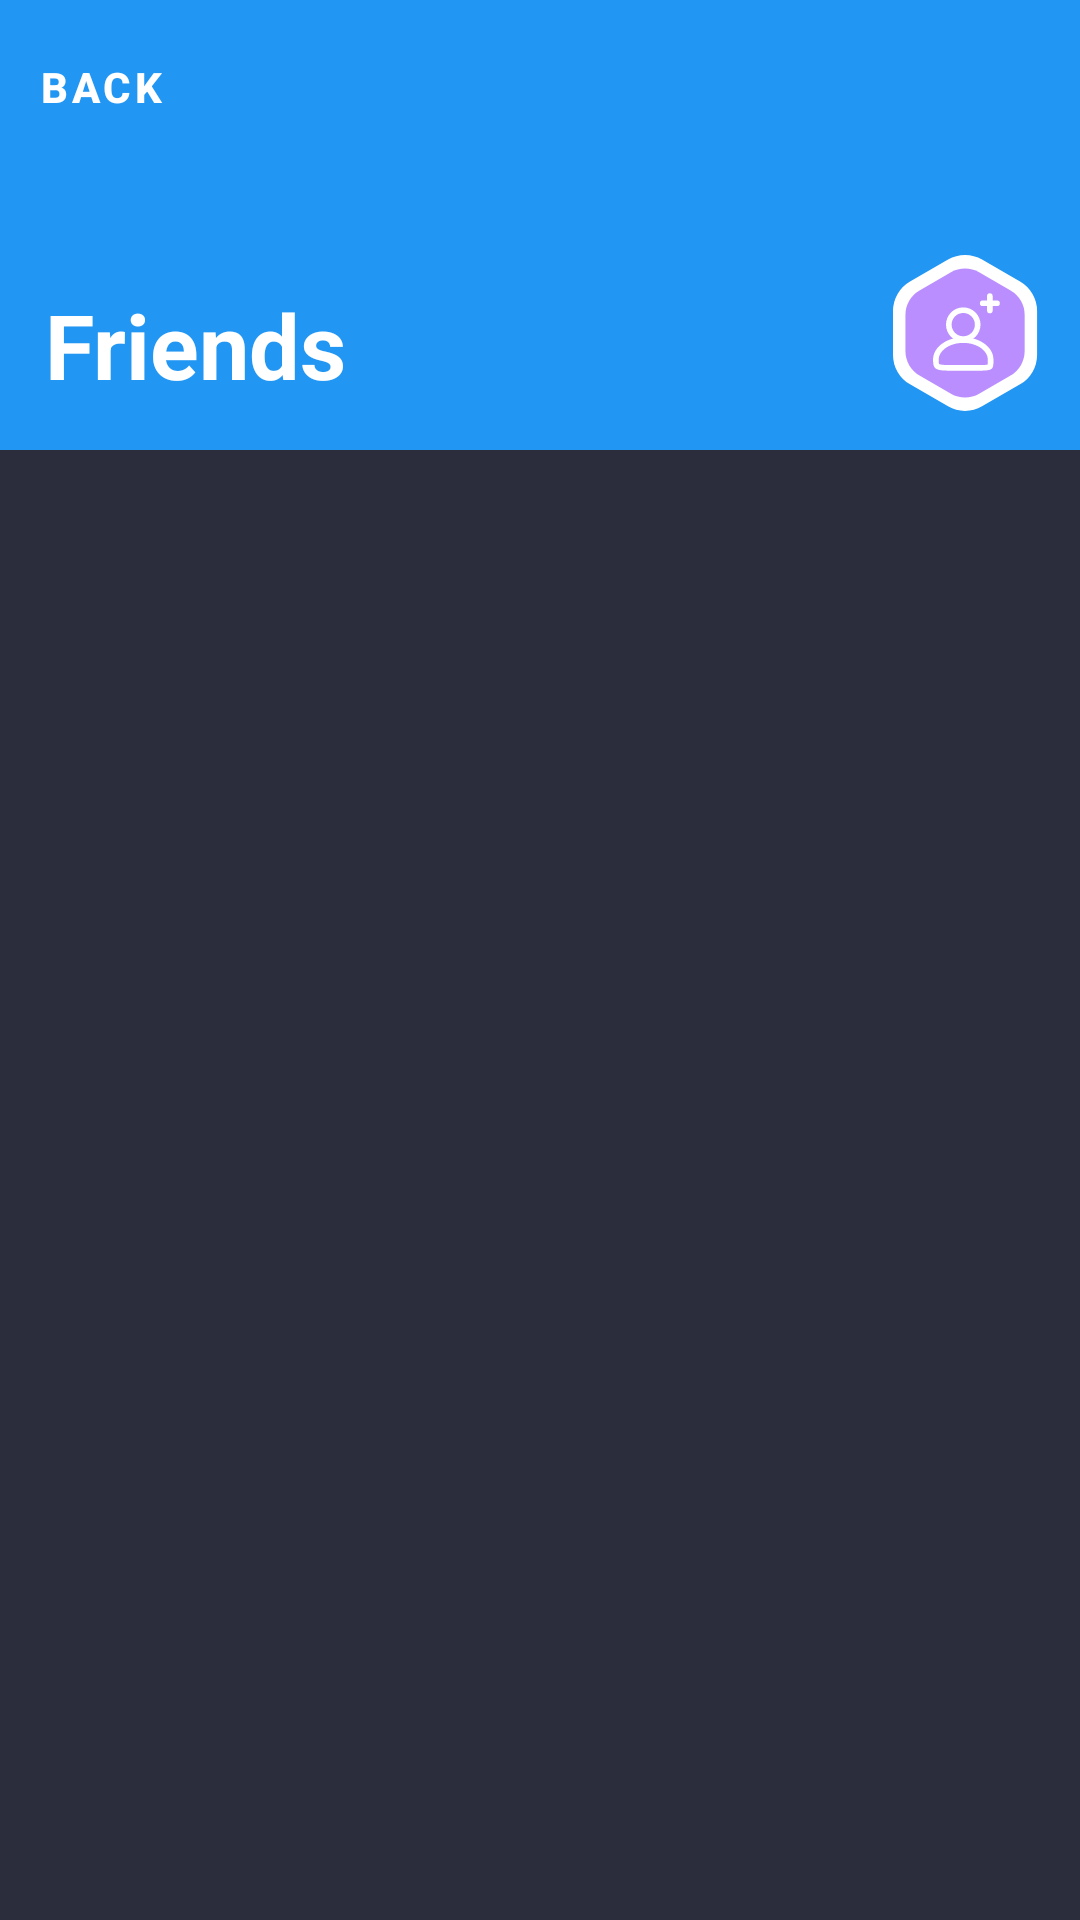

Icon click points for this 1080px×1920px phone screenshot, format (x=x, y=y):
user: (x=965, y=333)
